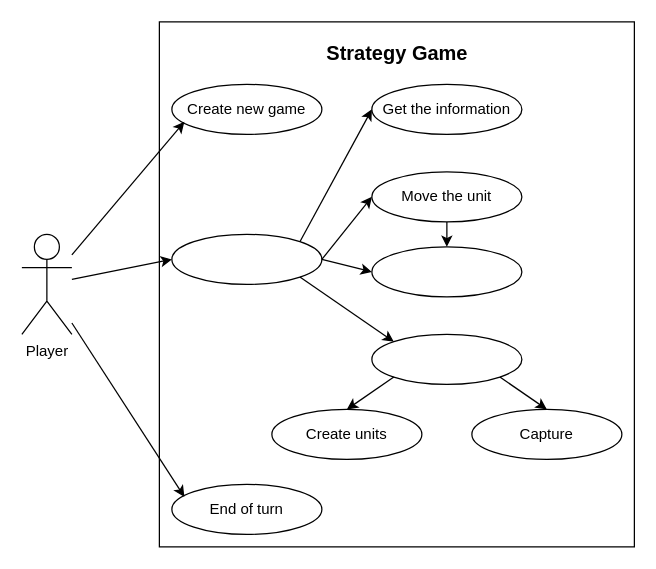
Some shapes in this 656 by 569 pixel diagram are drawn without their labels. The box of each missing label's shape, as (x1, y1, x2, y2) in pixels:
Attack: (371, 246, 522, 297)
Interact with Building: (371, 333, 522, 384)
Select the Tile: (171, 233, 322, 284)
